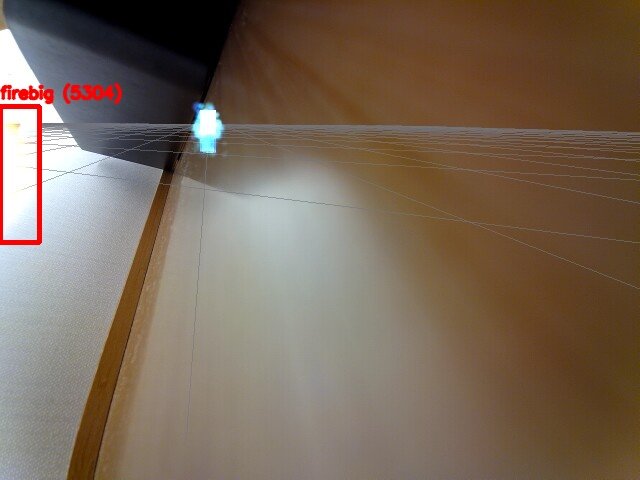firebig: (0, 106, 39, 242)
